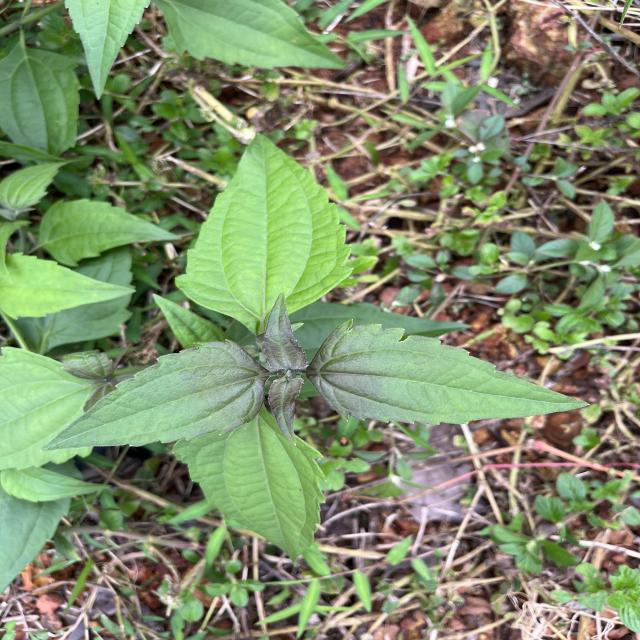Chromolaena odorata: (307, 314, 595, 432), (36, 335, 270, 455)
